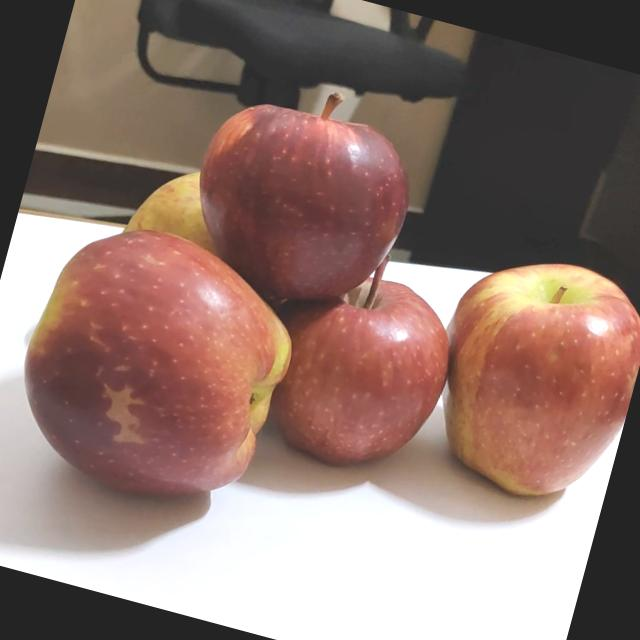apple: (0, 200, 318, 526), (163, 57, 440, 330), (240, 226, 479, 494), (412, 232, 640, 511), (100, 138, 264, 288)
